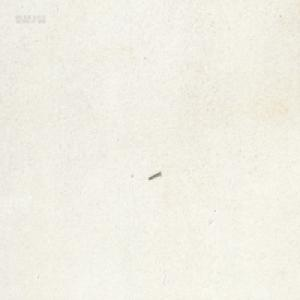Bolt: (147, 170, 160, 181)
